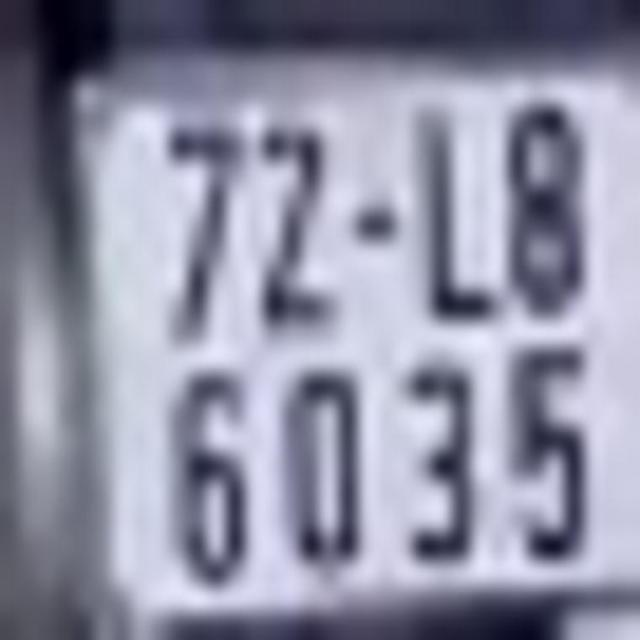0: (280, 356, 366, 567)
2: (262, 120, 341, 327)
3: (403, 353, 477, 562)
5: (508, 336, 592, 566)
6: (160, 362, 257, 585)
7: (159, 121, 253, 345)
8: (508, 91, 591, 319)
L: (414, 81, 500, 320)
